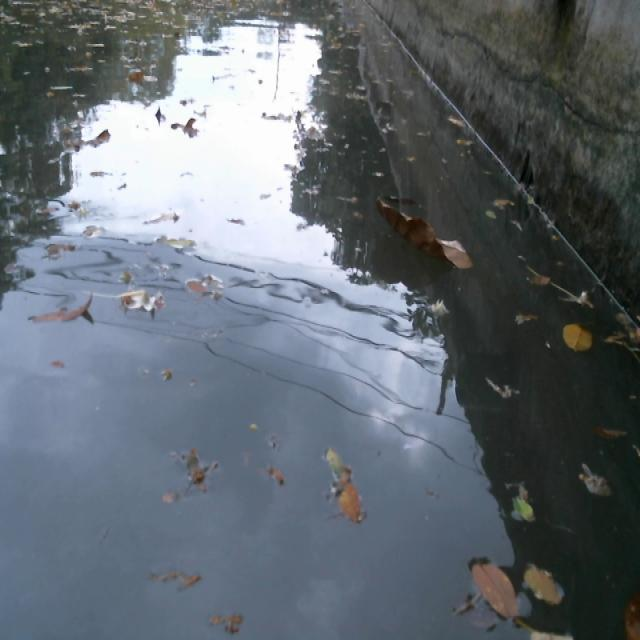Big-leaf: (369, 193, 475, 276)
Small-leaf: (466, 555, 523, 623), (27, 289, 98, 328), (516, 559, 570, 610), (336, 476, 368, 527), (559, 319, 598, 358), (611, 589, 640, 640), (571, 470, 614, 504), (123, 285, 166, 317), (155, 232, 201, 256), (511, 494, 539, 527), (595, 419, 632, 442), (322, 441, 344, 478), (146, 213, 191, 231), (522, 271, 555, 295), (170, 113, 198, 139), (88, 130, 117, 151), (181, 279, 208, 294), (446, 115, 468, 132), (153, 102, 167, 127), (485, 207, 500, 224), (128, 68, 146, 82)
